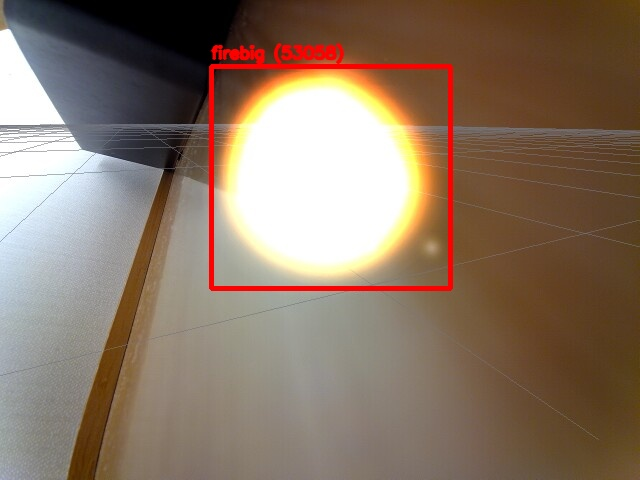firebig: (211, 66, 450, 288)
